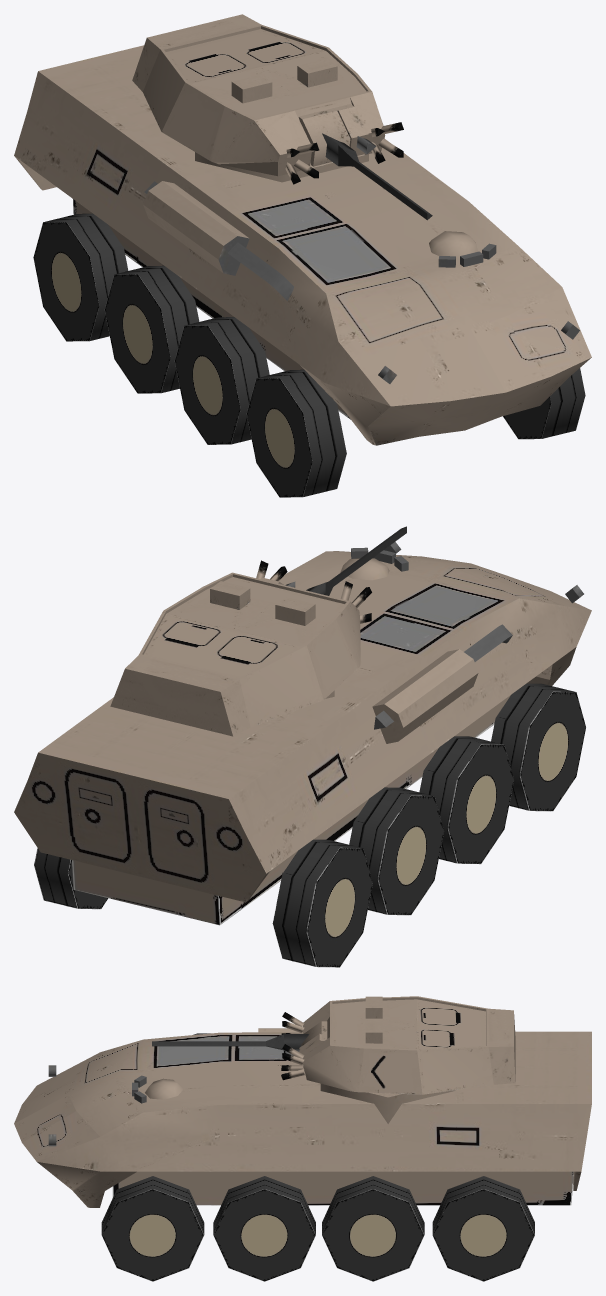
The model's file is inf2_idle.FBX.
3 views of the same model, one above another, from view 1: azimuth 30°, elevation 25°; view 2: azimuth 150°, elevation 25°; view 3: azimuth 270°, elevation 25° (orthographic). The views are drawn at different scales.
Visible parts, largest first — view 1: Plane001, Box017, Cylinder036, Cylinder045, Cylinder047, Cylinder046, Cylinder051; view 2: Plane001, Box017, Cylinder047, Cylinder036, Cylinder046, Cylinder045, Cylinder050; view 3: Plane001, Box017, Cylinder051, Cylinder050, Cylinder048, Cylinder049.
Boxes of the visible parts, bbox=[...] form: Plane001: bbox=[14, 45, 591, 445]; Box017: bbox=[132, 14, 432, 220]; Cylinder036: bbox=[246, 369, 346, 497]; Cylinder045: bbox=[174, 317, 269, 444]; Cylinder047: bbox=[33, 213, 128, 341]; Cylinder046: bbox=[104, 265, 199, 393]; Cylinder051: bbox=[503, 368, 585, 439]; Plane001: bbox=[14, 541, 591, 925]; Box017: bbox=[110, 526, 406, 736]; Cylinder047: bbox=[272, 839, 372, 967]; Cylinder036: bbox=[491, 683, 585, 811]; Cylinder046: bbox=[349, 787, 443, 915]; Cylinder045: bbox=[419, 736, 513, 864]; Cylinder050: bbox=[34, 848, 108, 909]; Plane001: bbox=[14, 1028, 591, 1207]; Box017: bbox=[152, 996, 515, 1094]; Cylinder051: bbox=[101, 1176, 204, 1281]; Cylinder050: bbox=[432, 1176, 534, 1281]; Cylinder048: bbox=[213, 1176, 315, 1281]; Cylinder049: bbox=[322, 1176, 424, 1281].
Bounding box in the file's own units: 23.88 × 23.69 × 56.47.
Materials: 3 (3 with a texture image).
